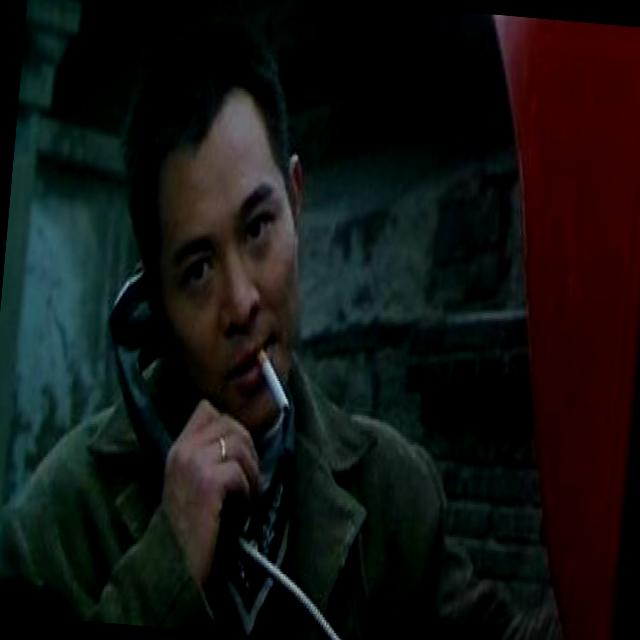smoke: (253, 320, 310, 454)
